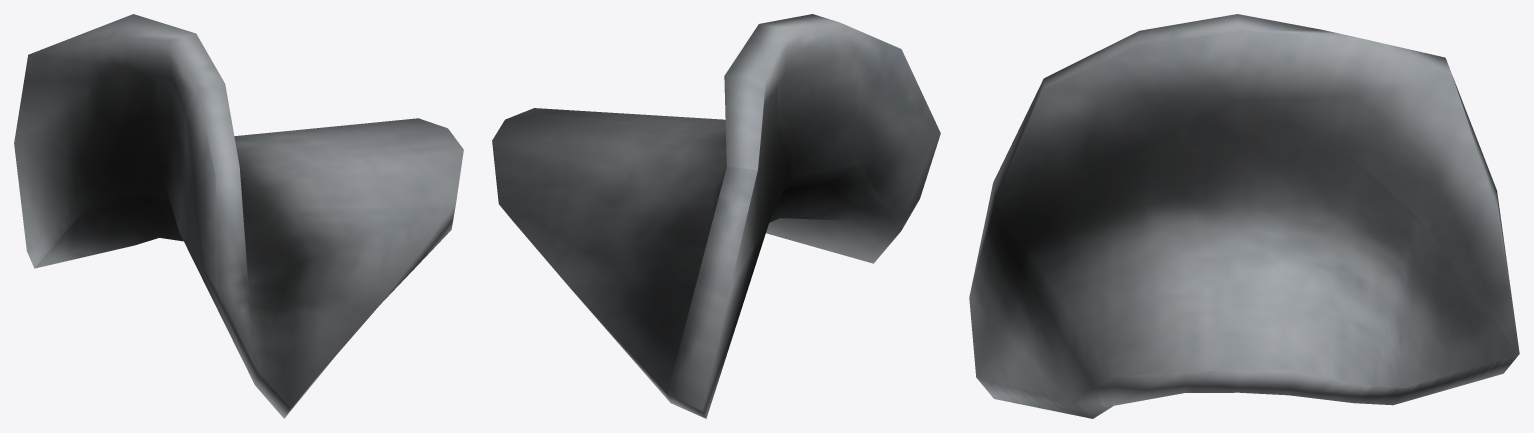
Rendered from grave_marine_shoulder_l.glb.
The picture shows the model from 3 angles, left to right: view 1: azimuth 30°, elevation 25°; view 2: azimuth 150°, elevation 25°; view 3: azimuth 270°, elevation 25°; orthographic projection. The views are drawn at different scales.
Parts seen in each view (by area): view 1: scythe_marine_shoulder_l; view 2: scythe_marine_shoulder_l; view 3: scythe_marine_shoulder_l.
Part boxes in pixels (<box>): scythe_marine_shoulder_l: <box>14,14,463,418</box>; scythe_marine_shoulder_l: <box>492,14,940,418</box>; scythe_marine_shoulder_l: <box>969,14,1519,418</box>.
Bounding box in the file's own units: 1.34 × 1.18 × 1.56.
1 material, 1 textured.
